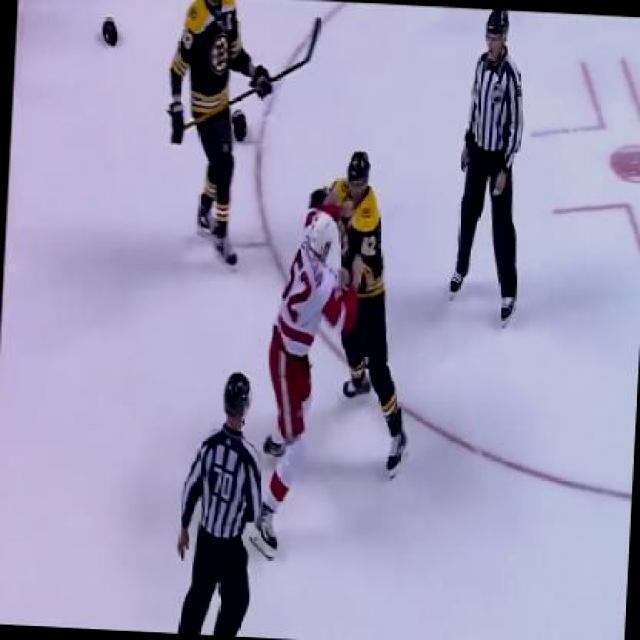fight: (258, 143, 420, 488)
